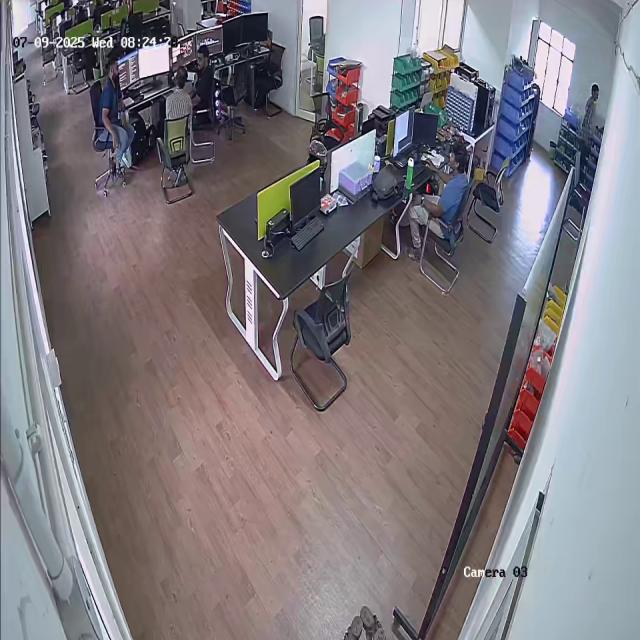person: (417, 140, 472, 240), (95, 57, 134, 180), (187, 45, 216, 122)
